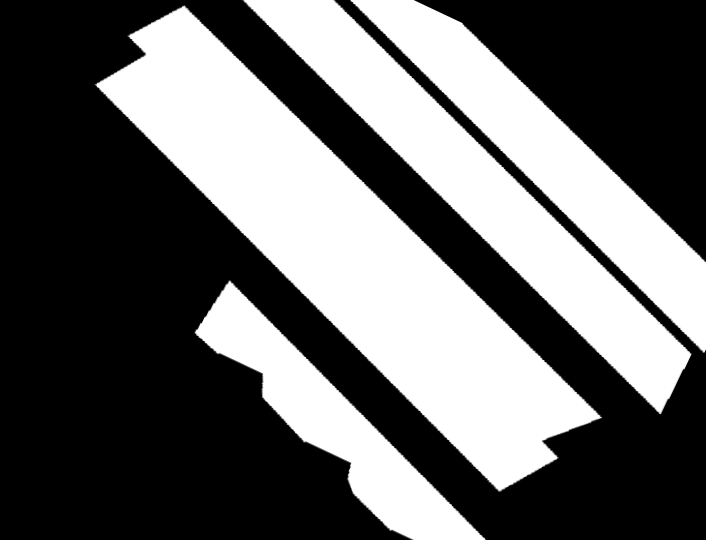parkingspot: (95, 6, 602, 491), (243, 0, 691, 414), (351, 0, 706, 353), (195, 281, 486, 540)
